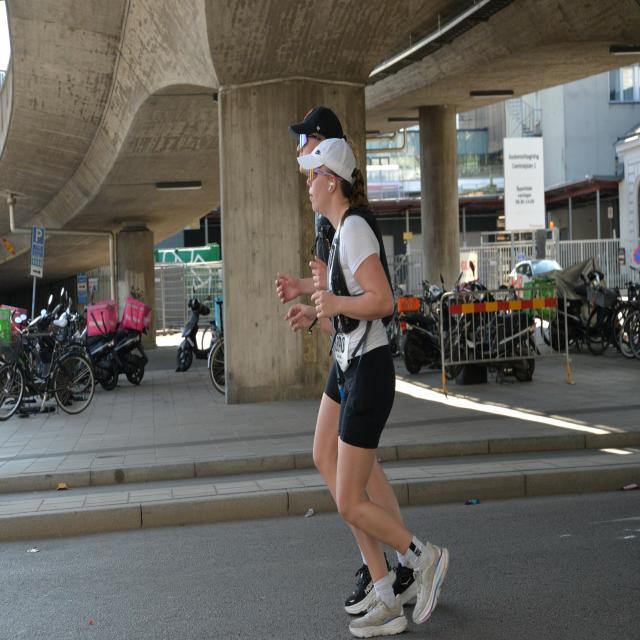runner-detect: (293, 144, 471, 636)
